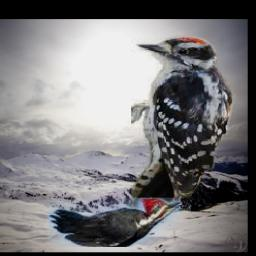Woodpecker: (131, 36, 236, 223), (49, 198, 182, 247)
